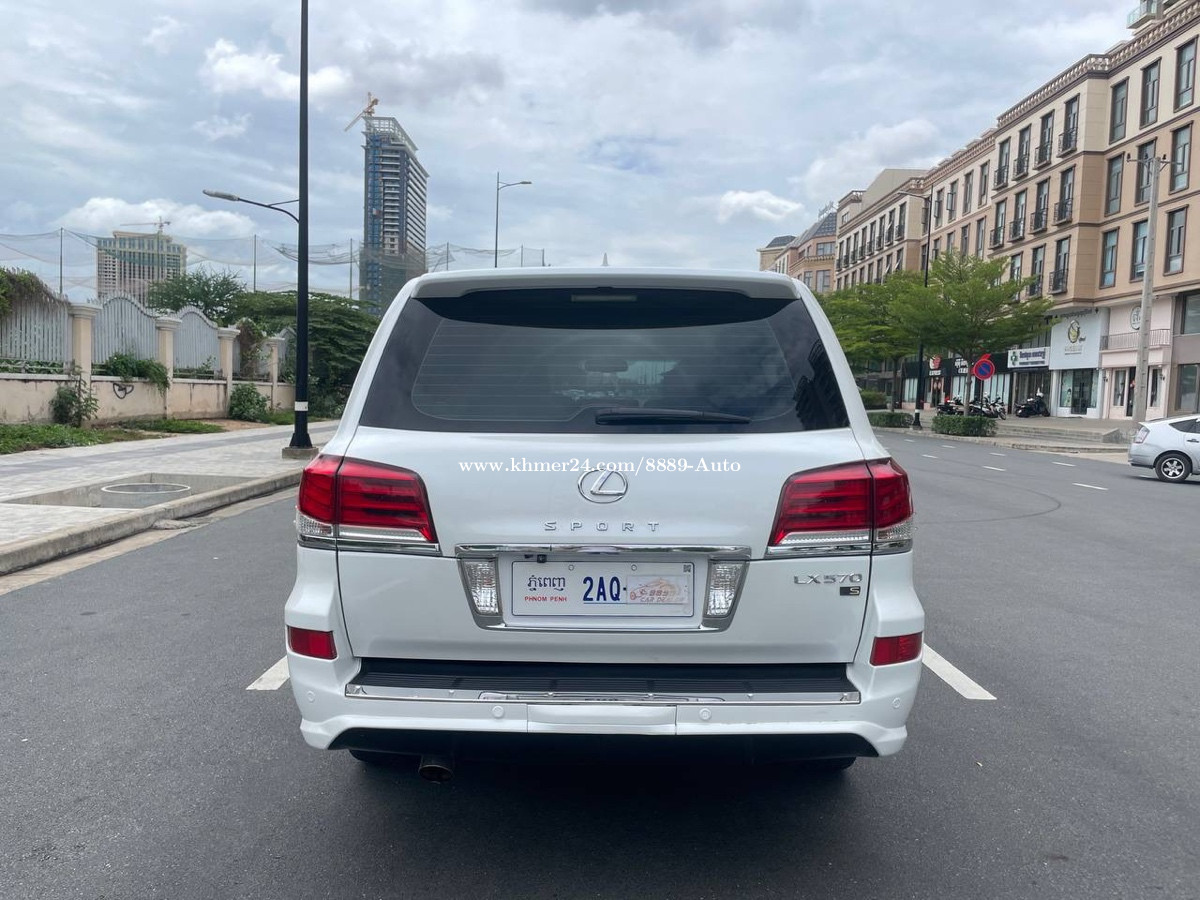car: (288, 259, 932, 802)
